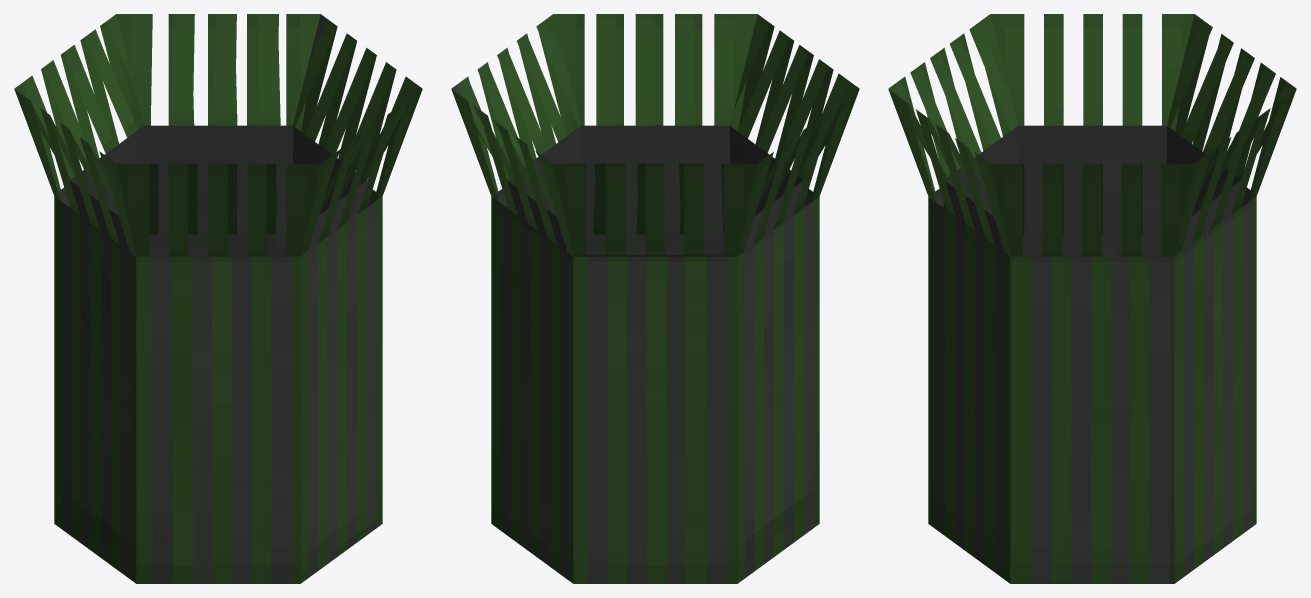
File: street urrn.fbx
3 renders of one model, left to right at view 1: azimuth 30°, elevation 25°; view 2: azimuth 150°, elevation 25°; view 3: azimuth 270°, elevation 25°, orthographic.
Parts seen in each view (by area): view 1: Цилиндр; view 2: Цилиндр; view 3: Цилиндр.
Boxes of the visible parts, box(x1,y1,x2,y2) form: Цилиндр: box(14, 14, 422, 583); Цилиндр: box(451, 14, 859, 583); Цилиндр: box(888, 14, 1296, 583).
Bounding box in the file's own units: 53.94 × 73.19 × 62.29.
Materials: 1 (1 with a texture image).
